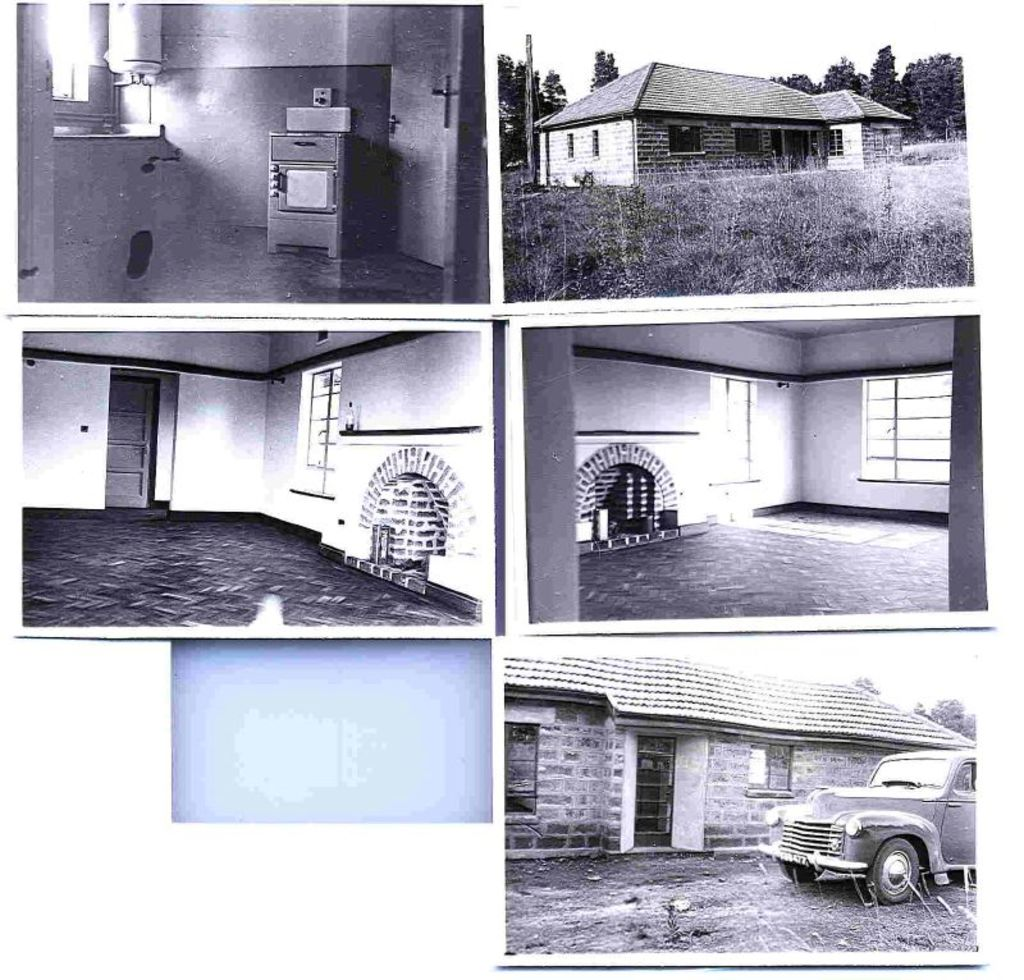Car: (776, 770, 975, 916)
